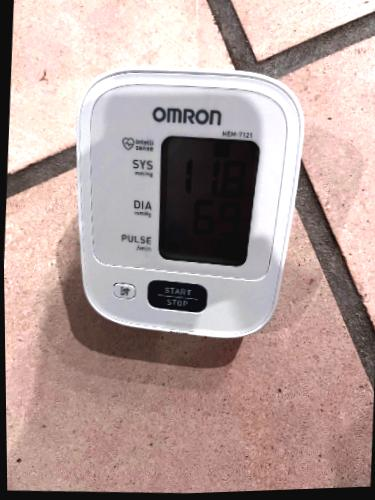bpm: (146, 131, 261, 269)
